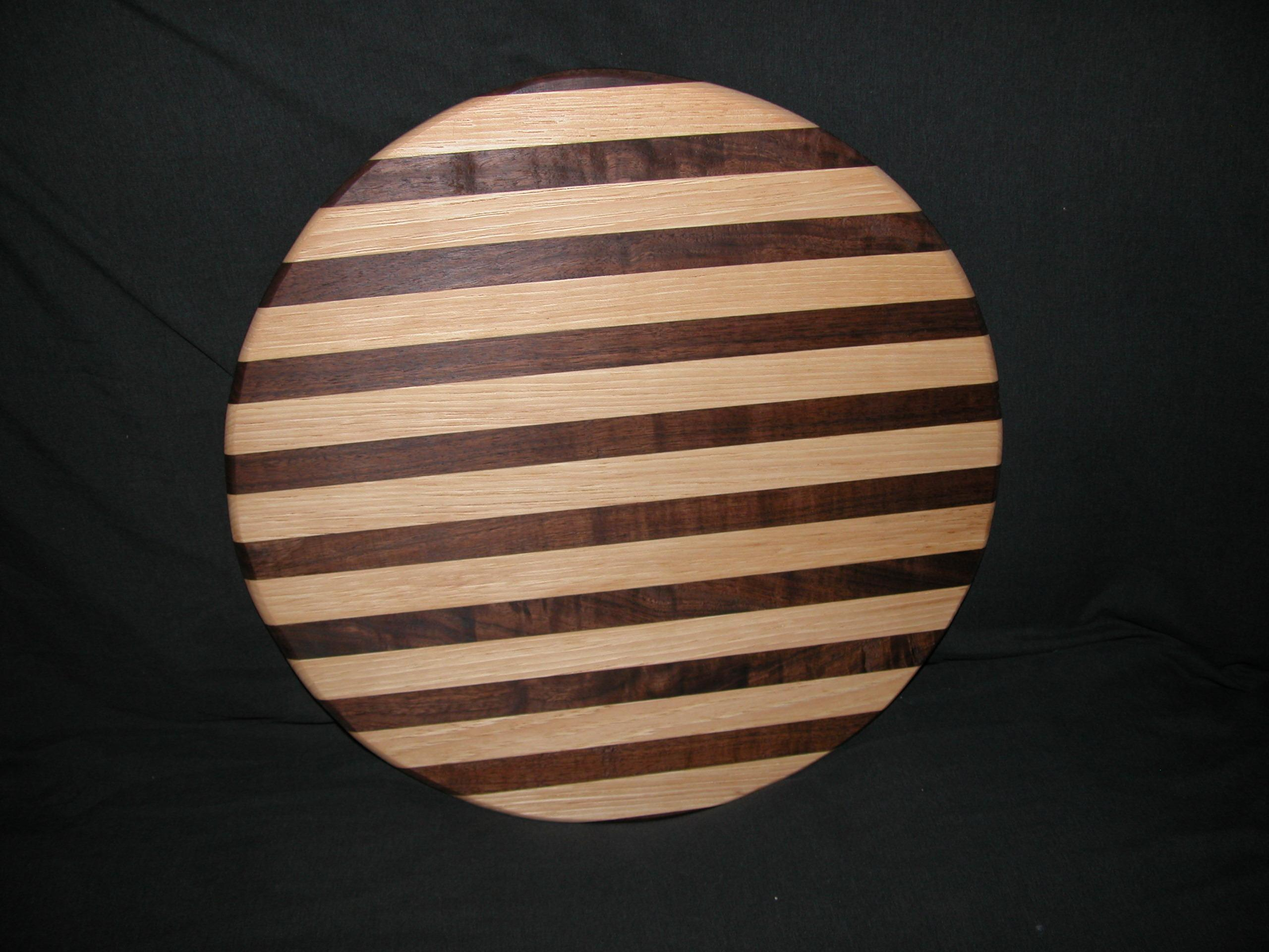gloved_hand: (179, 55, 1040, 840)
